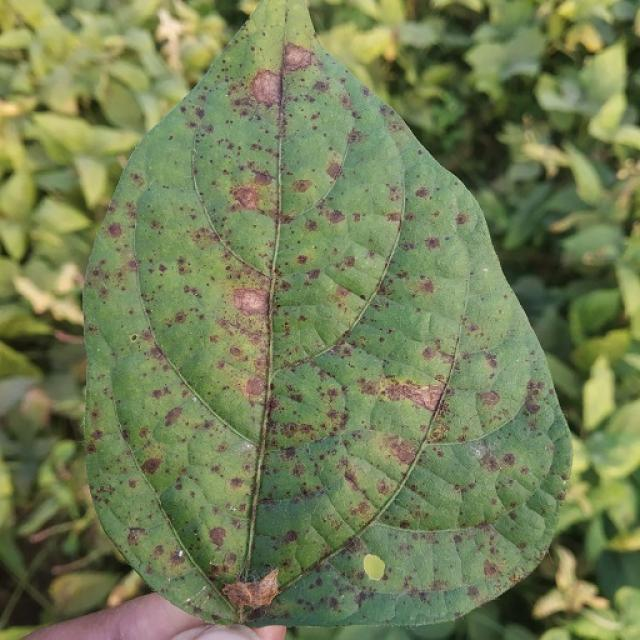Anthracnose: (237, 530, 353, 605), (264, 357, 349, 443), (199, 281, 273, 372), (247, 44, 321, 113), (138, 237, 198, 312), (222, 162, 287, 224), (269, 60, 293, 211), (371, 367, 445, 410), (219, 568, 281, 611), (222, 178, 264, 221), (246, 67, 278, 111), (231, 285, 270, 321), (316, 159, 357, 191), (230, 286, 269, 316), (250, 68, 282, 104), (386, 435, 419, 466), (283, 42, 315, 70), (232, 186, 261, 210), (362, 552, 386, 581), (342, 462, 363, 491), (475, 389, 502, 410), (206, 560, 233, 580), (239, 368, 247, 430), (469, 441, 491, 462), (163, 405, 184, 426), (477, 388, 499, 407), (140, 457, 162, 476), (245, 376, 264, 397), (208, 526, 227, 547), (126, 526, 147, 544), (245, 607, 270, 622), (523, 397, 542, 415), (326, 160, 343, 180), (291, 179, 312, 194), (252, 170, 273, 185), (483, 560, 500, 578), (182, 284, 201, 300), (327, 208, 345, 224), (106, 222, 123, 238), (419, 278, 435, 294), (421, 346, 438, 361), (312, 80, 330, 94), (277, 211, 295, 224), (424, 236, 440, 250), (414, 186, 431, 199), (173, 310, 187, 325), (501, 453, 516, 467), (171, 549, 186, 563), (209, 611, 226, 623), (454, 212, 468, 226), (306, 268, 321, 281), (229, 476, 244, 489), (192, 106, 205, 120), (229, 346, 243, 357), (296, 254, 308, 265), (128, 478, 138, 489), (157, 263, 168, 273), (130, 333, 139, 342)
Blackgram: (76, 2, 571, 629)
